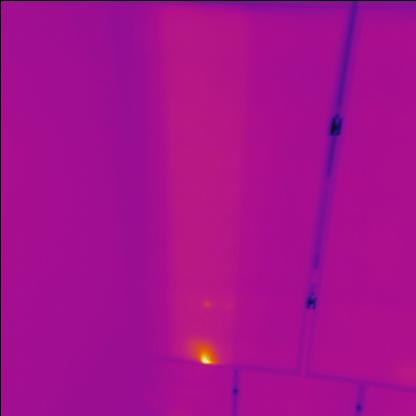hotspot: (196, 348, 216, 368)
